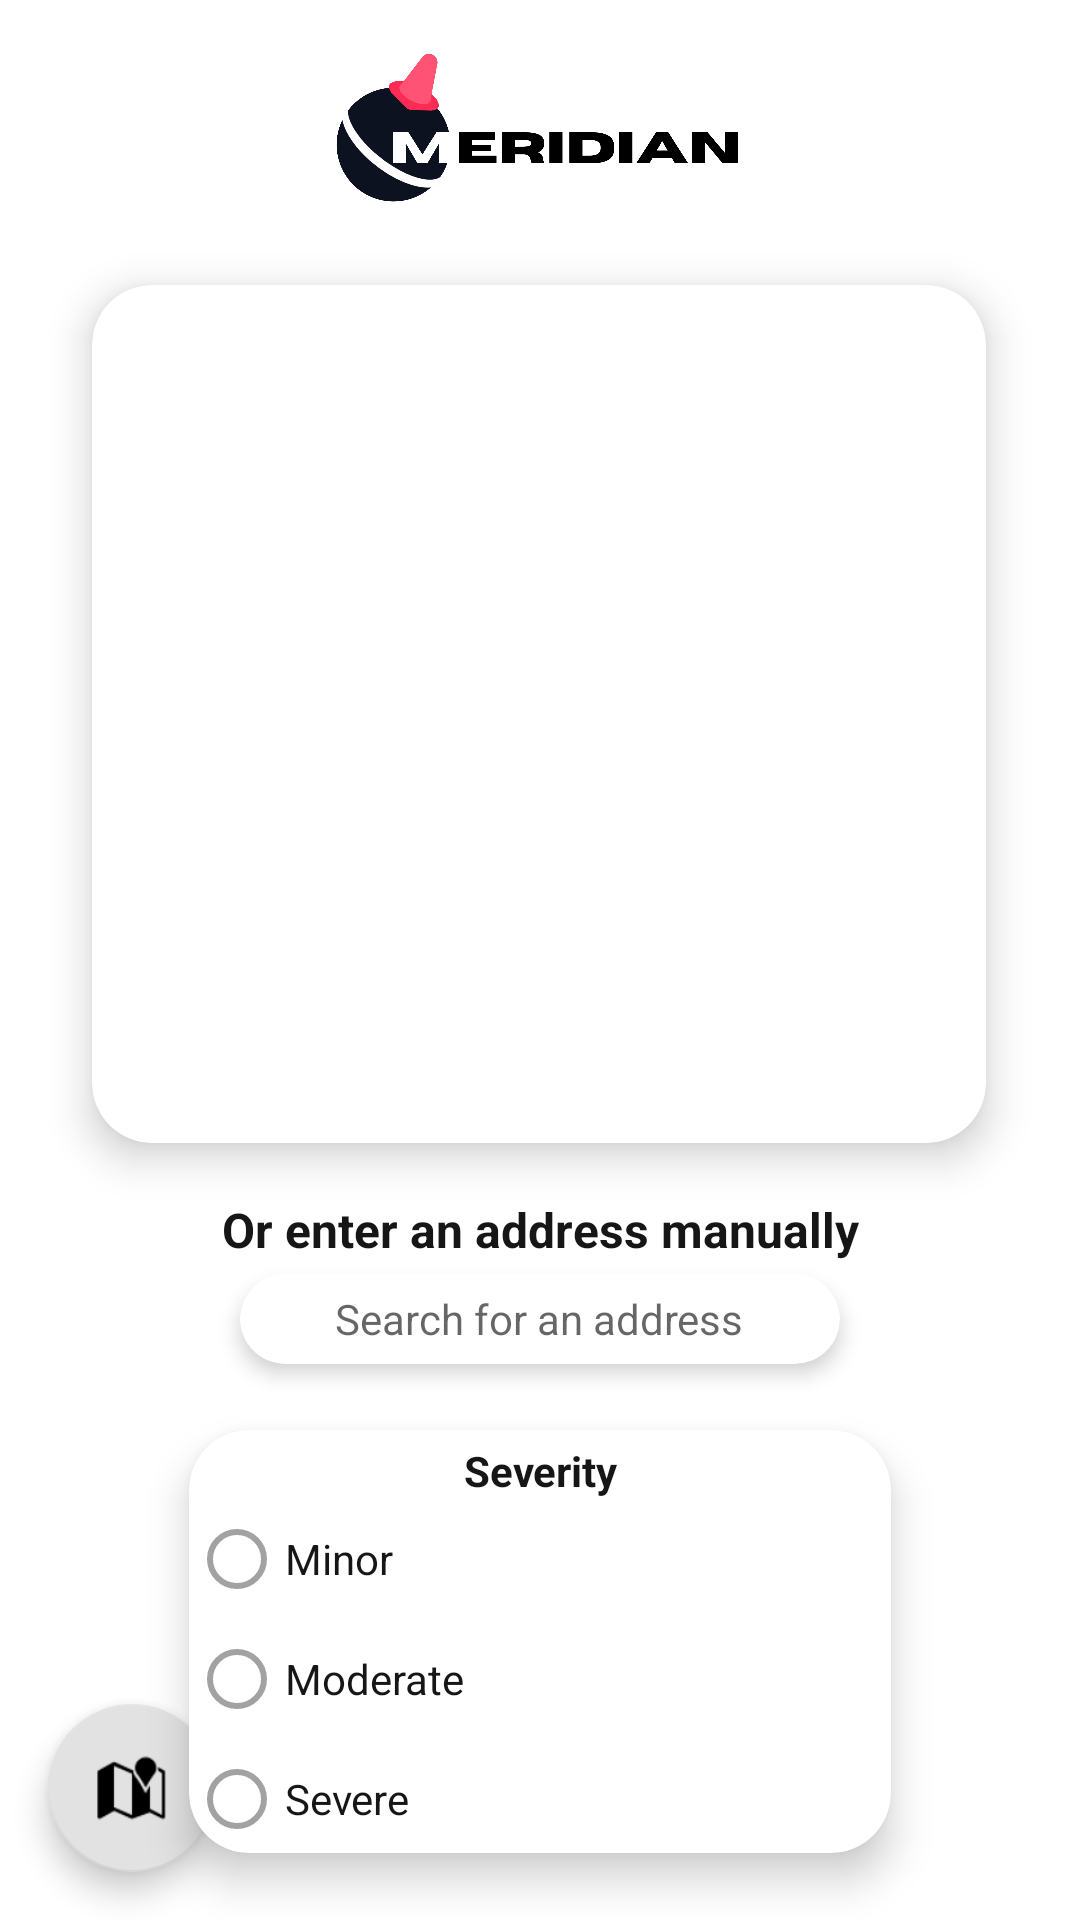

Where icons sit on this 1080px x 1920px app screen, as (x1, y1, x2, y2):
map: (48, 1704, 216, 1872)
